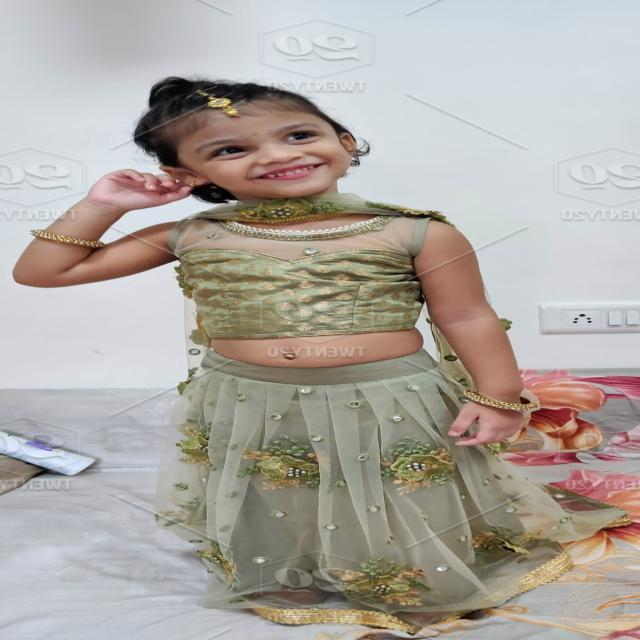child: (0, 67, 543, 622)
